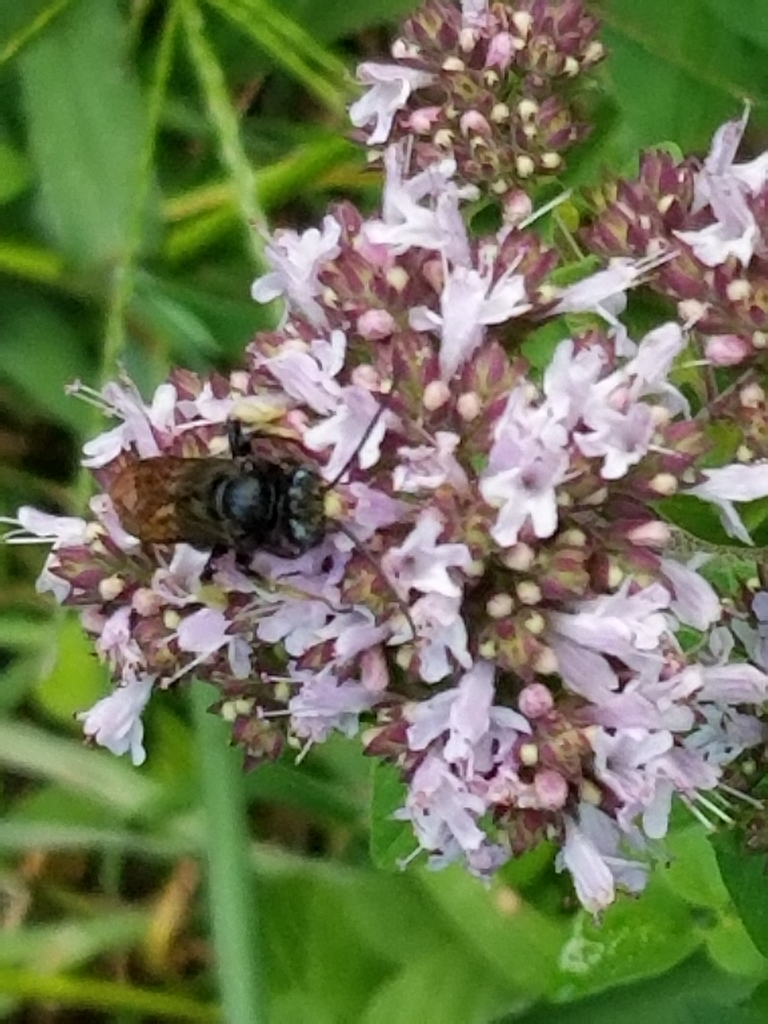not_bumblebee: (110, 391, 424, 636)
